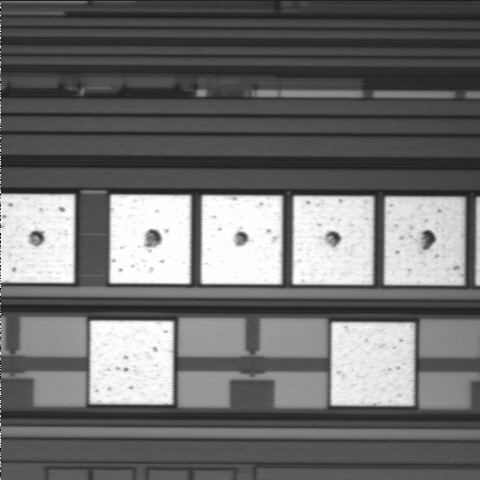pad: (110, 195, 191, 284), (201, 195, 282, 284), (293, 196, 374, 285), (384, 197, 464, 285), (331, 322, 414, 406), (90, 321, 173, 404)
